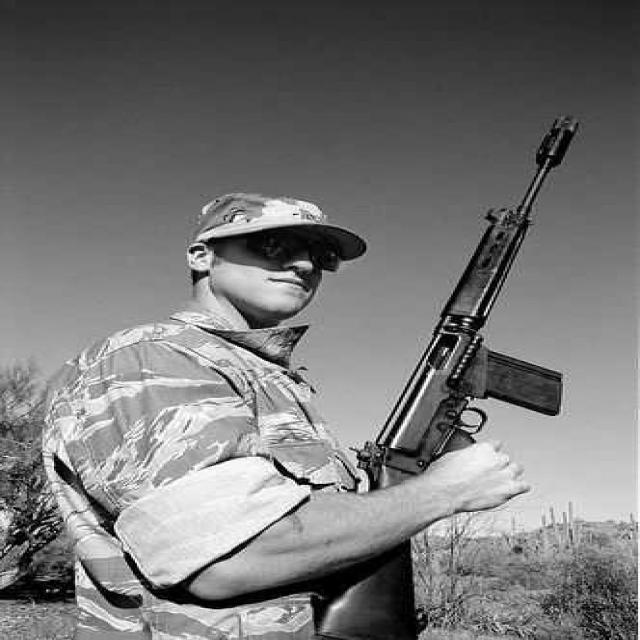weapon: (293, 80, 619, 640)
